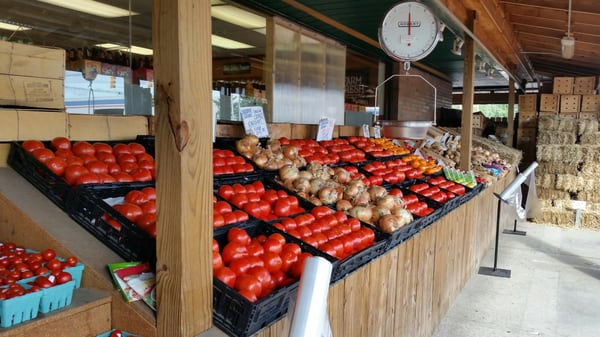pasta: (333, 124, 359, 138)
steak: (379, 2, 440, 62)
